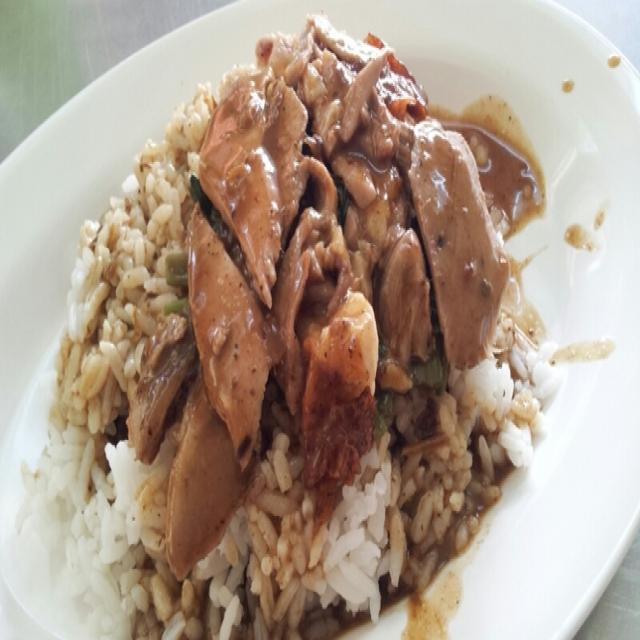米饭主食: (32, 13, 599, 632)
